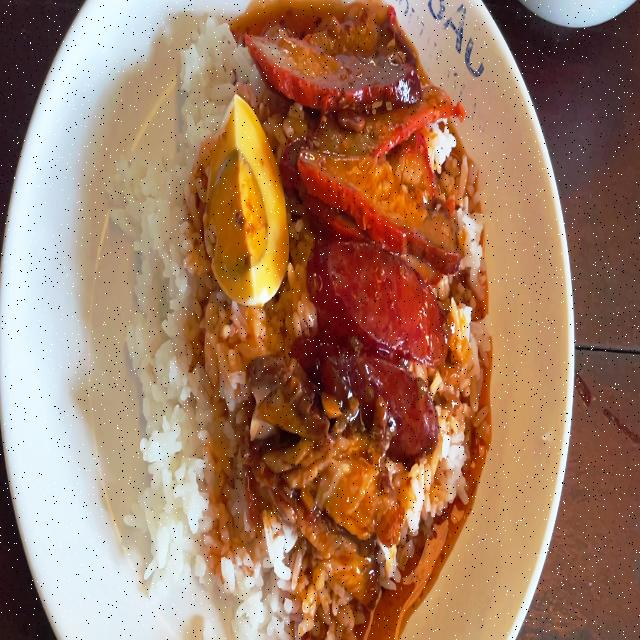boiled_egg: (205, 105, 287, 303)
chainese_sausage: (308, 245, 440, 433)
crispy_pork: (267, 423, 398, 586)
red_pork: (293, 62, 459, 250)
red_pork_and_crispy_pork: (122, 5, 474, 633)
rice: (129, 301, 252, 598), (128, 162, 194, 314), (186, 22, 247, 114)
